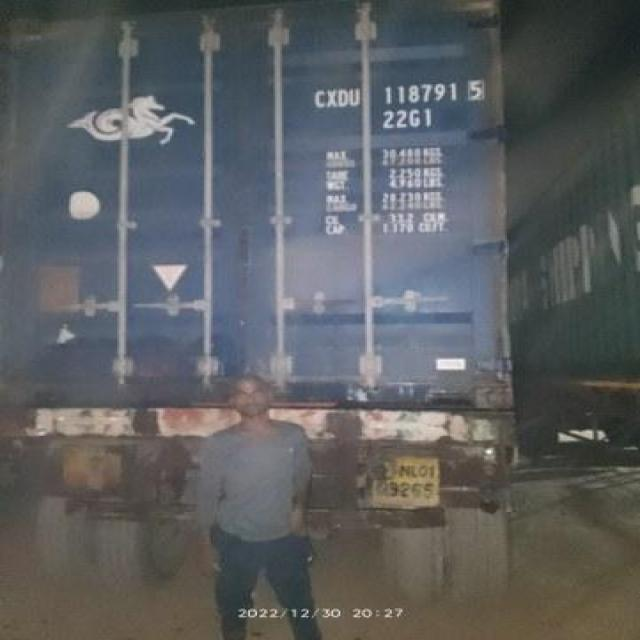ISO: (382, 108, 435, 130)
container_number: (324, 80, 486, 104)
